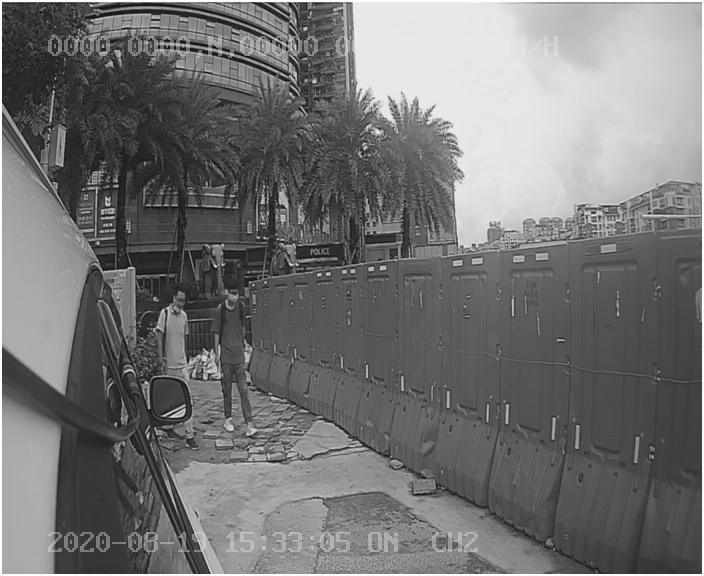person: (208, 283, 279, 444)
